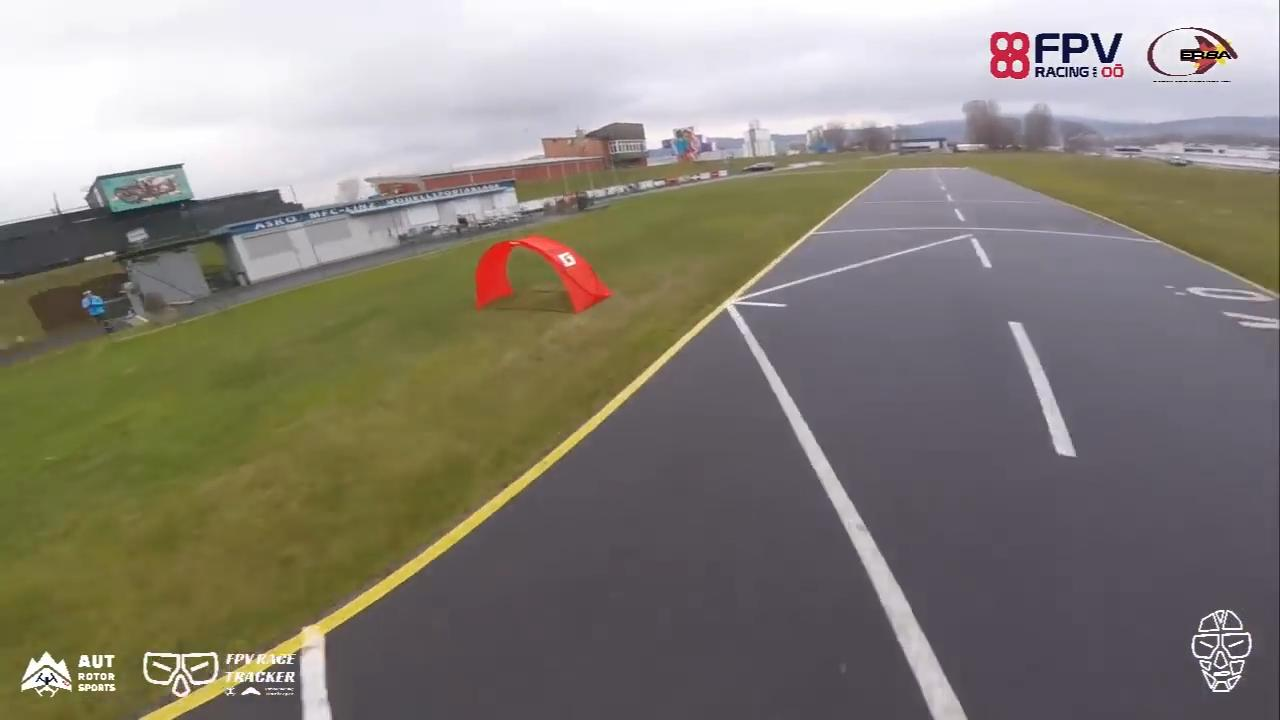gate: (474, 231, 611, 312)
